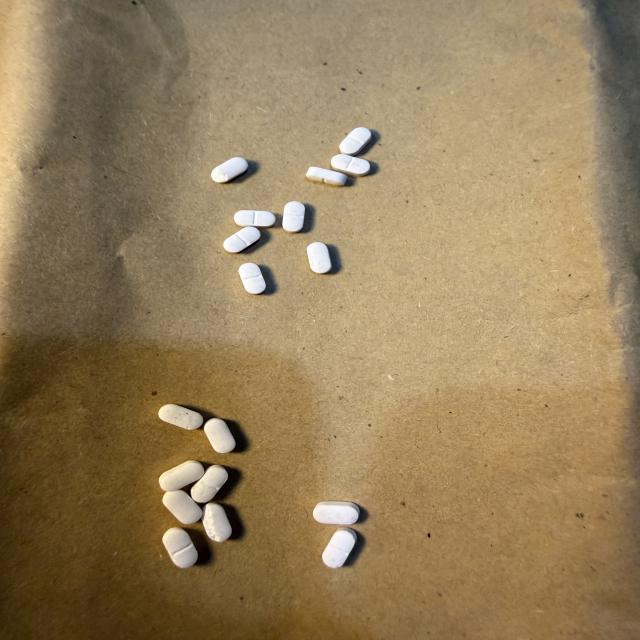pill: (322, 528, 356, 568), (163, 528, 197, 568), (159, 461, 204, 491), (191, 465, 227, 502), (163, 490, 201, 524), (202, 503, 231, 542), (313, 502, 359, 525), (159, 405, 203, 429), (205, 418, 235, 453), (212, 157, 248, 183), (224, 227, 260, 253), (340, 127, 371, 155), (331, 154, 370, 176), (239, 263, 266, 294), (306, 167, 346, 186), (307, 242, 331, 273), (234, 210, 275, 228), (283, 201, 304, 232)
